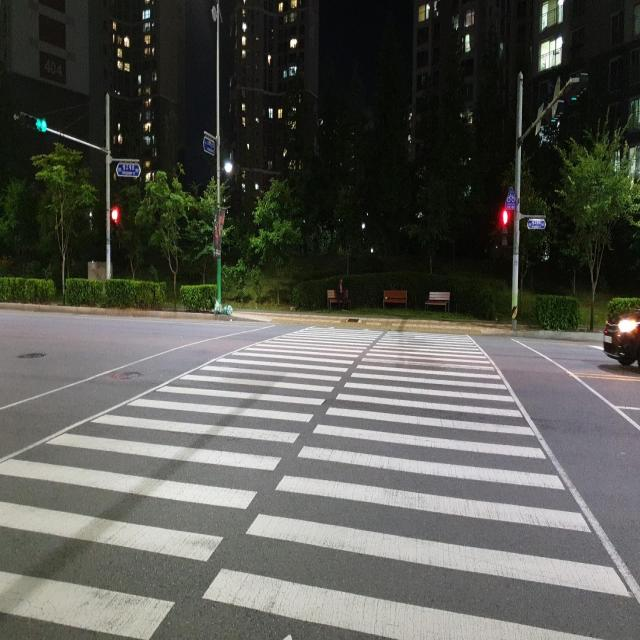빨간불: (502, 208, 509, 251)
횡단보도: (0, 325, 640, 640)
